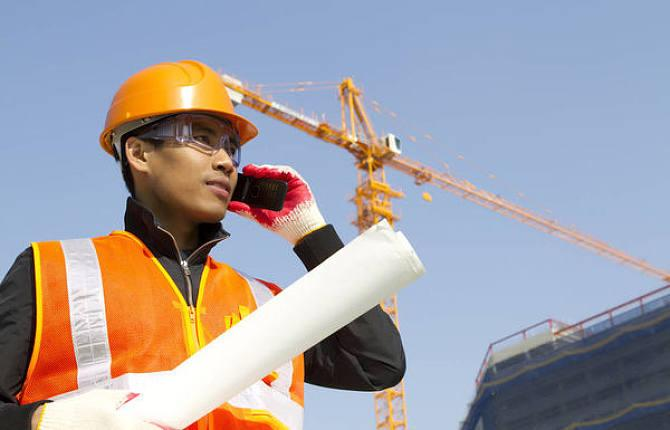helmet: (97, 59, 261, 160)
